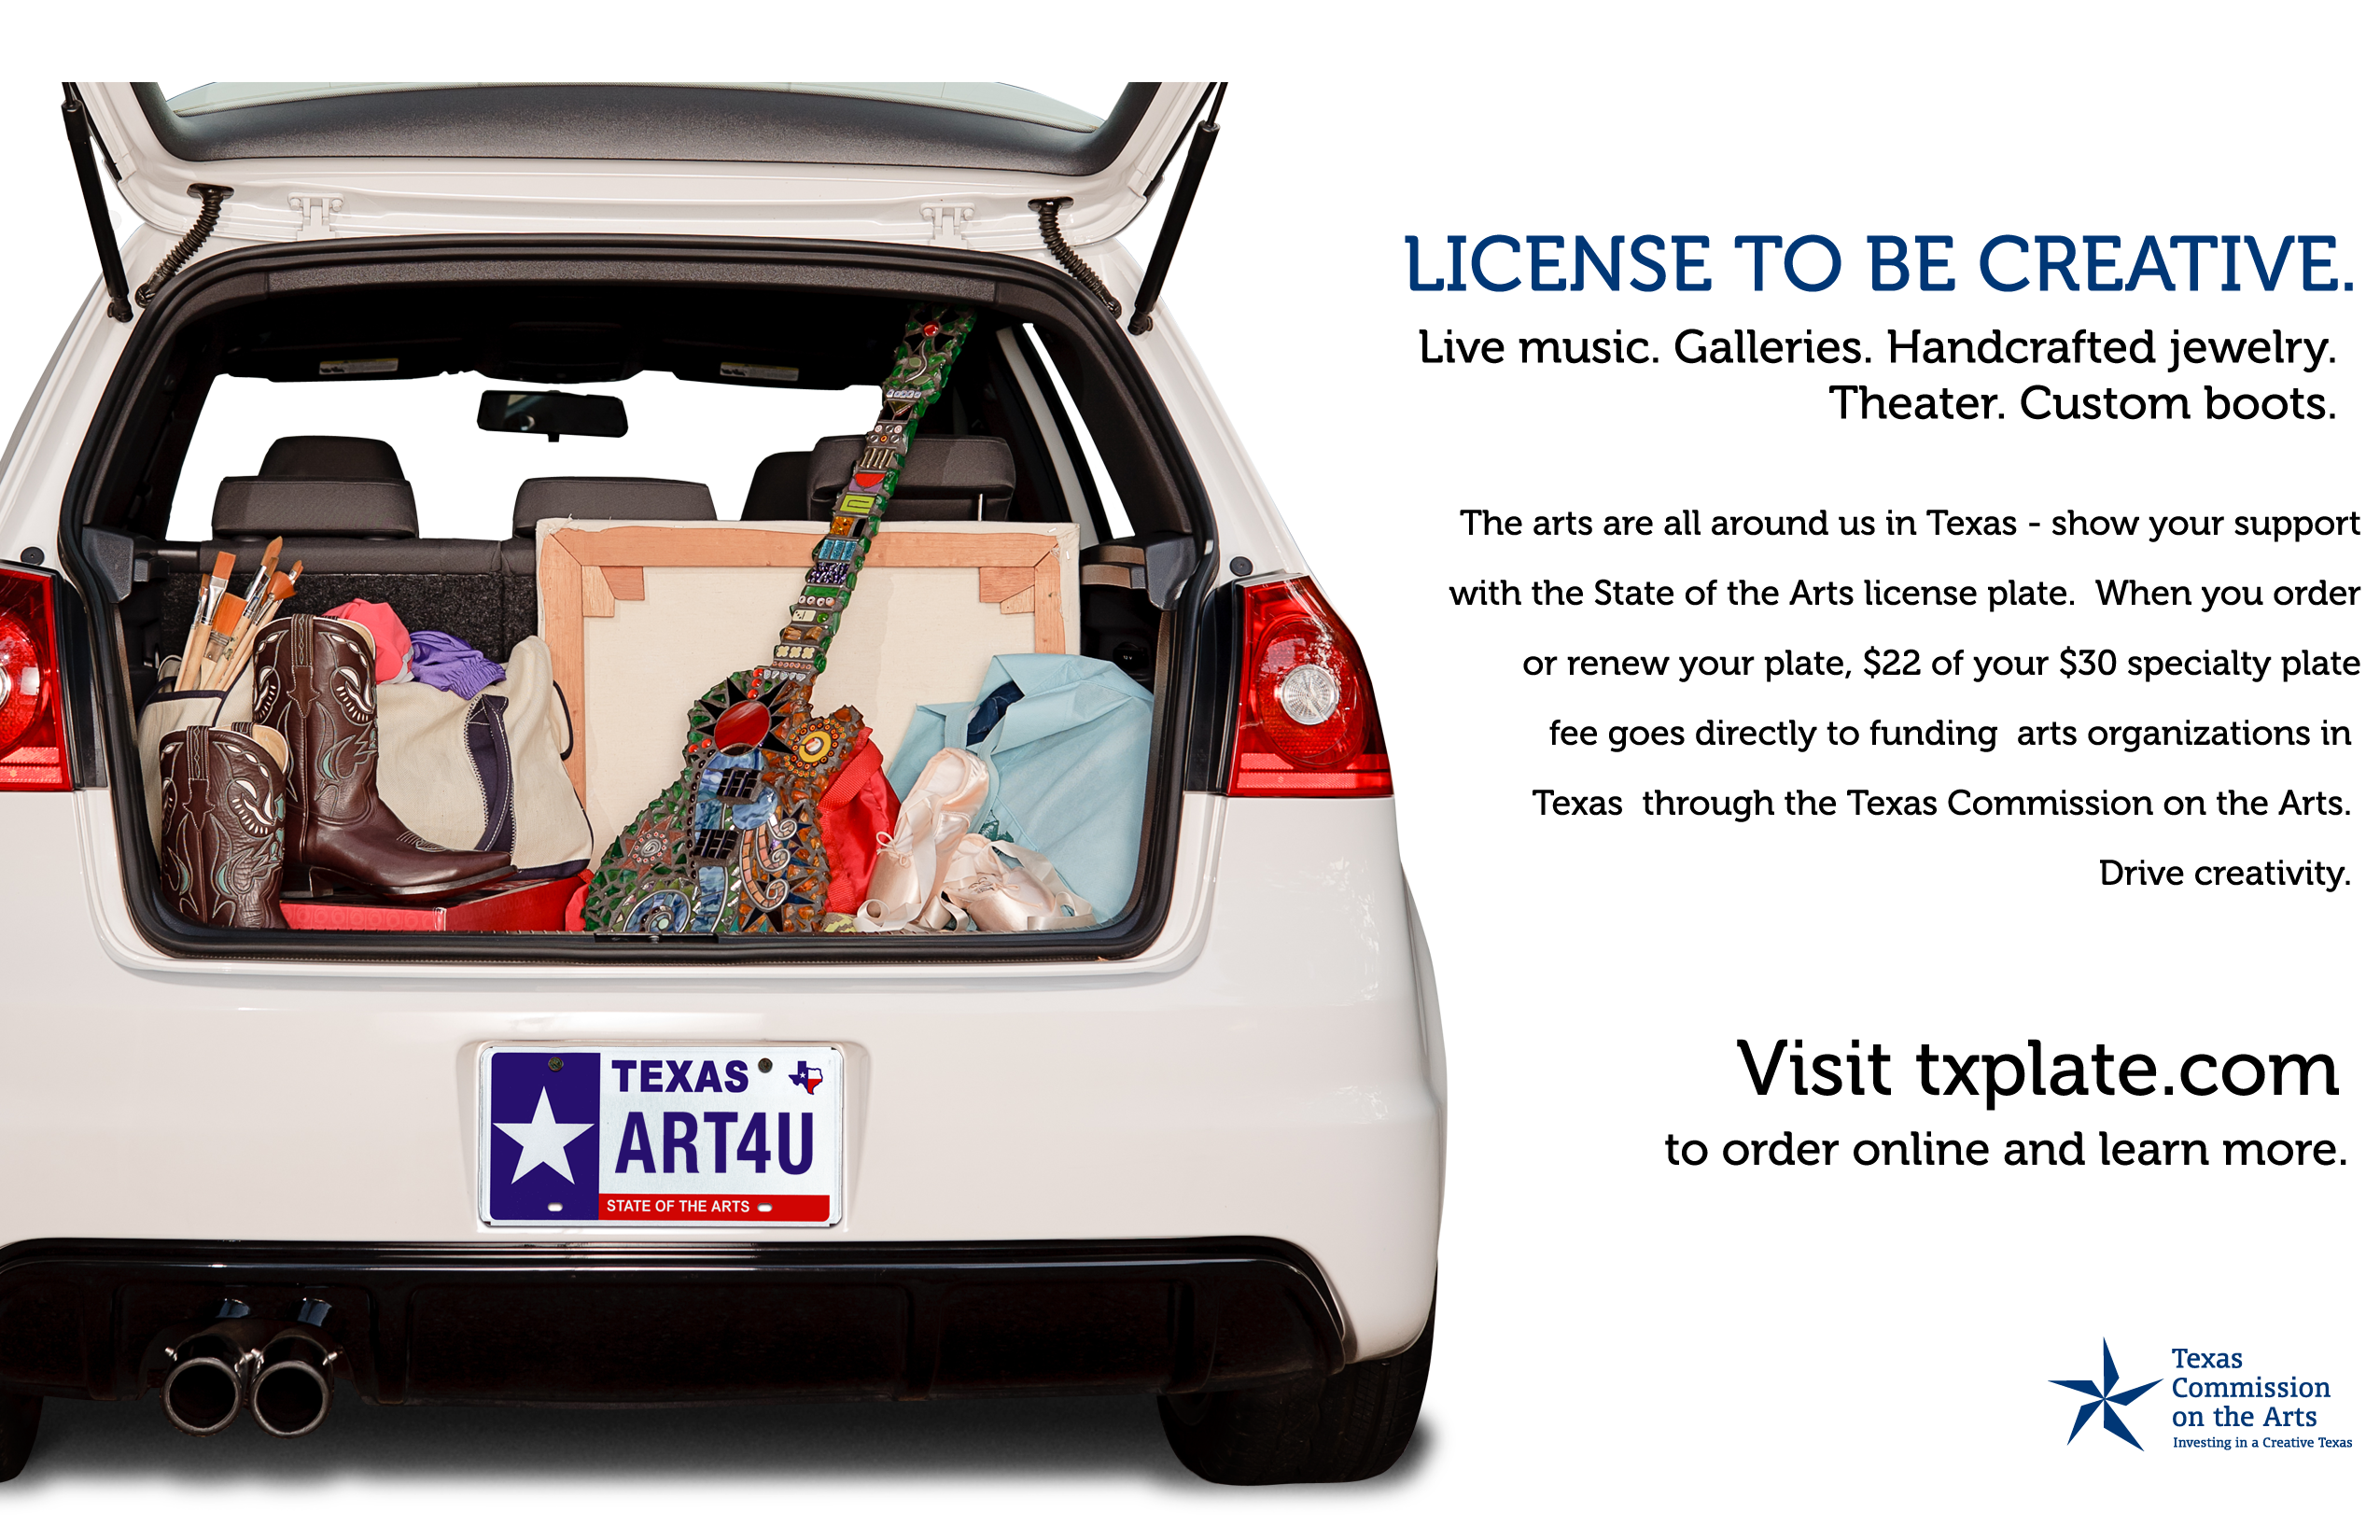license plate: (474, 1047, 847, 1234)
